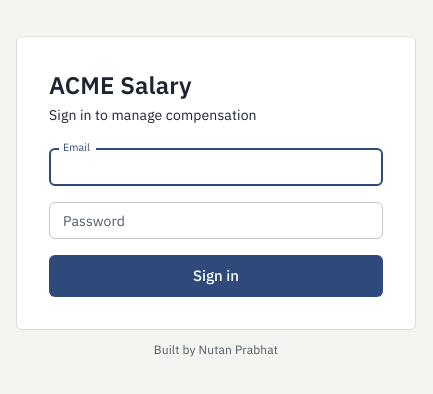
Test case: Login › asks for both fields before sending anything
Click the button "Sign in" at {"x": 216, "y": 276}, box [49, 255, 383, 297]
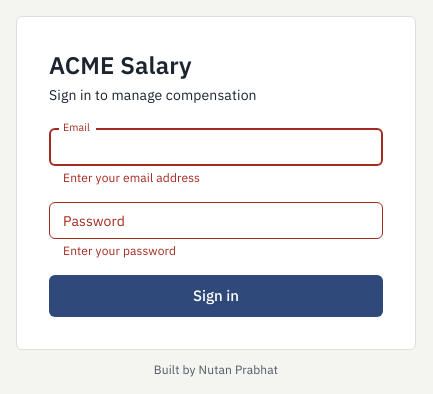
Result: the text "Enter your email address" is shown at [63, 170, 200, 185]
Result: the text "Enter your password" is shown at [63, 243, 176, 258]
